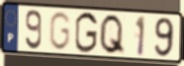1: (134, 15, 146, 58)
9: (153, 16, 176, 59), (24, 9, 43, 50)
G: (74, 10, 99, 55), (48, 10, 72, 52)
Q: (98, 13, 126, 56)
